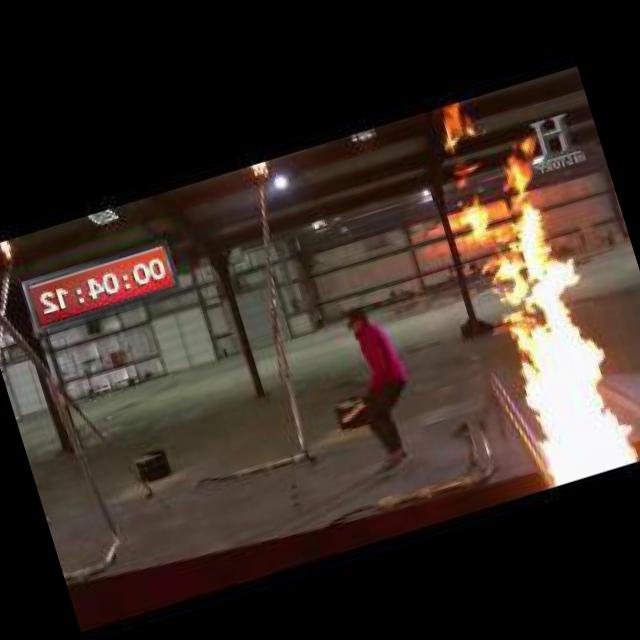fire: (439, 132, 632, 488), (429, 100, 483, 150)
